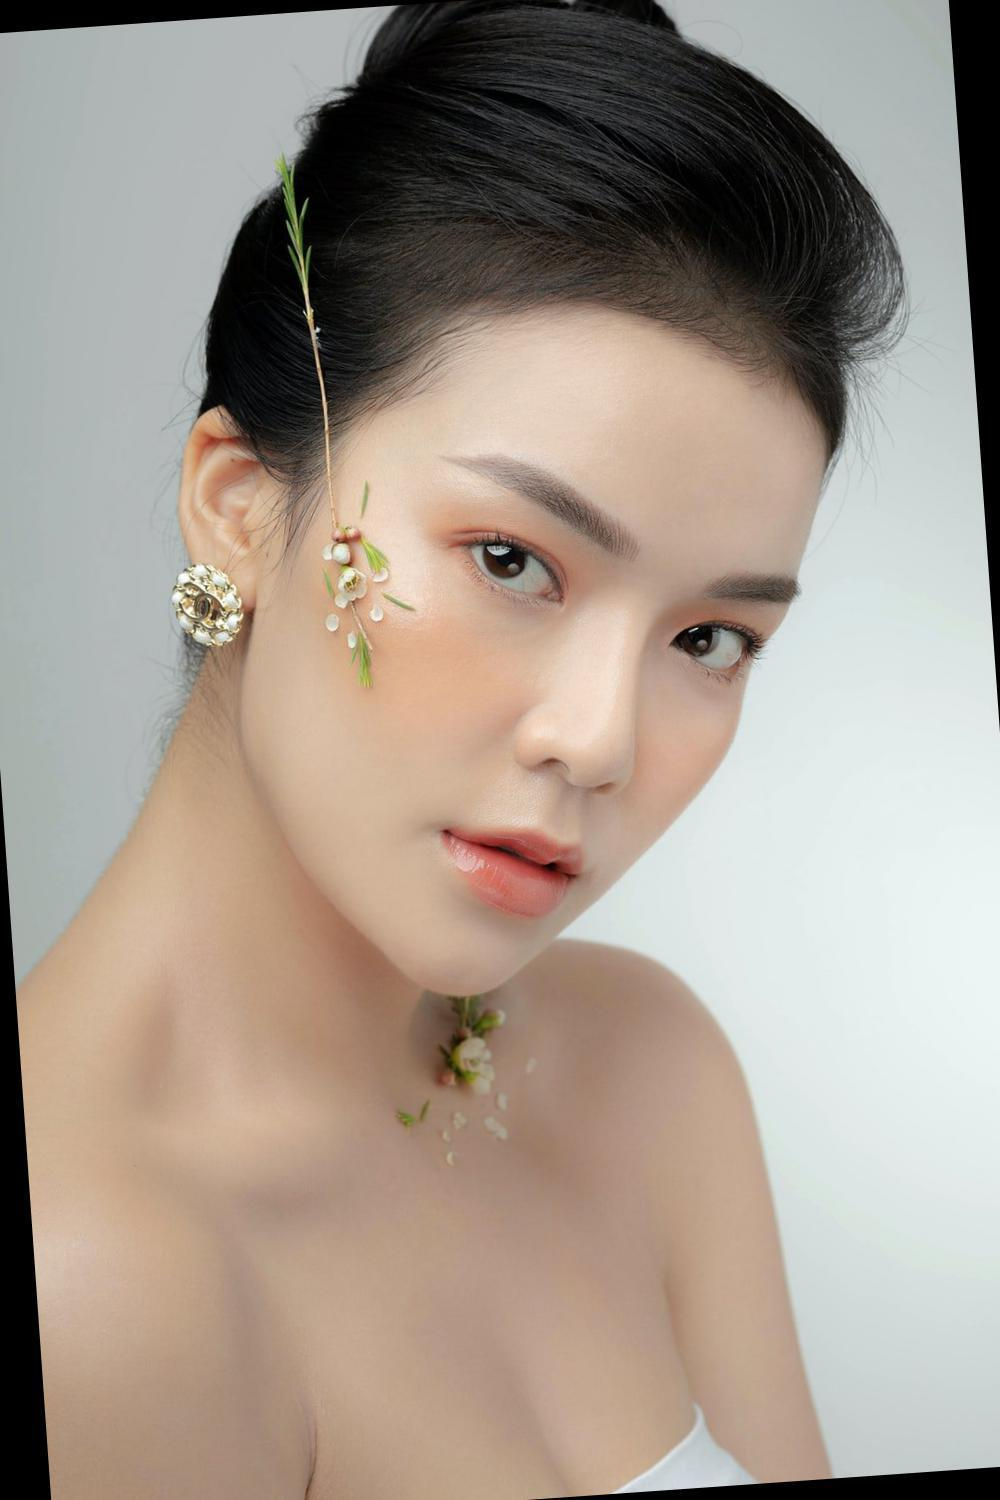Sober: (325, 331, 747, 980)
